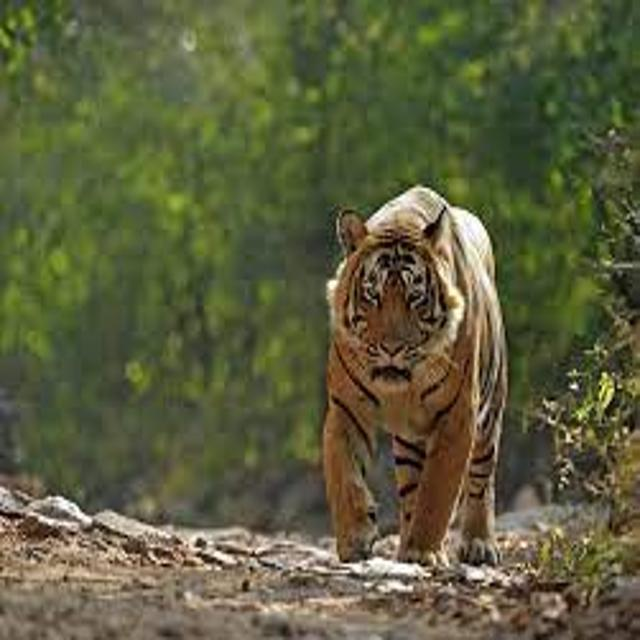Tiger: (286, 187, 524, 622)
